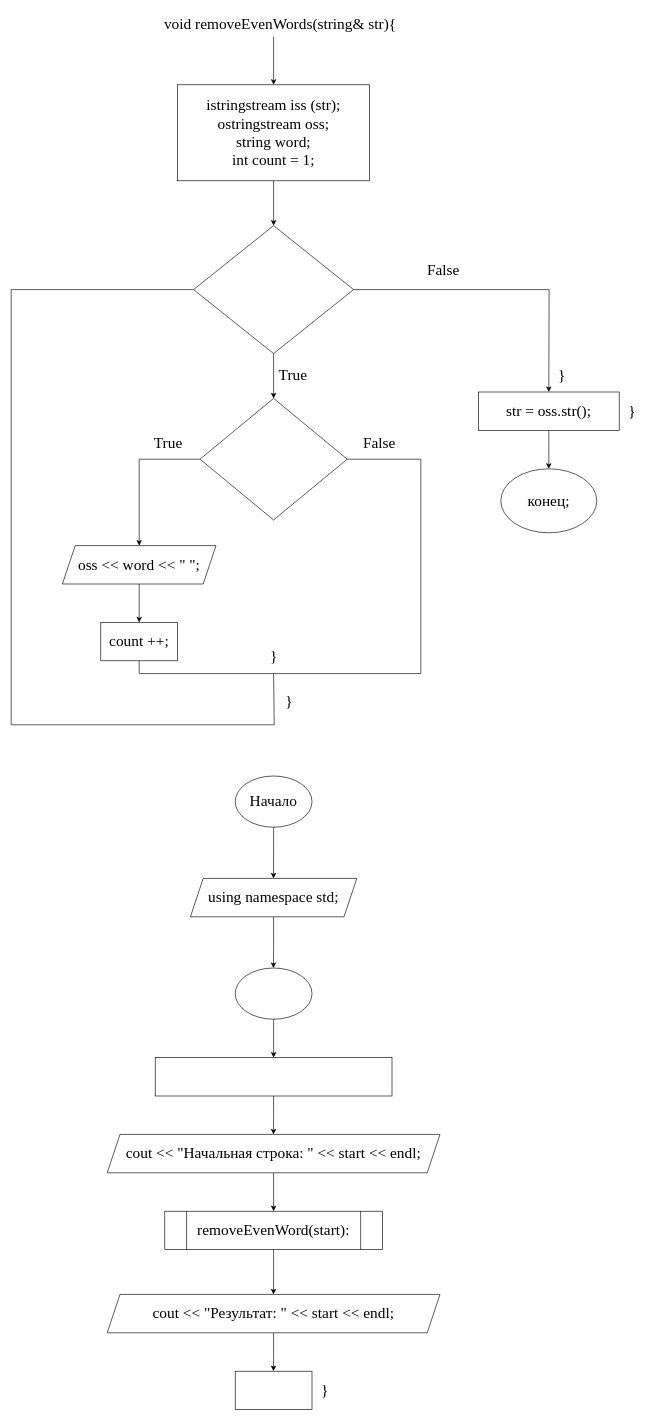
This 656x1421 diagram has some shape labels left out. The shapes that lost their labels are listed below. From the top down, each one's centre as x and y in pixels, then its label:
point (273, 289): while (iss >> word){
point (273, 459): if (count % 2 != 0){
point (273, 993): int main(){
point (273, 1076): string start = "There is start string";
point (273, 1390): return 0;
